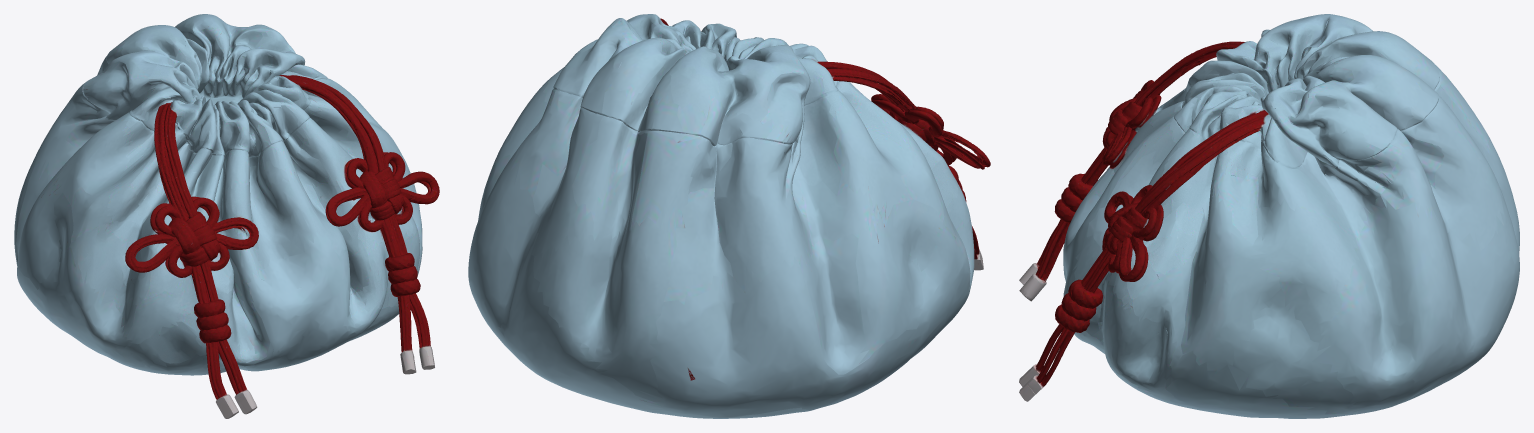
The model's file is cheonghong-closed.glb.
The picture shows the model from 3 angles, left to right: view 1: azimuth 30°, elevation 25°; view 2: azimuth 150°, elevation 25°; view 3: azimuth 270°, elevation 25°; orthographic projection. The views are drawn at different scales.
Parts seen in each view (by area): view 1: body, cord; view 2: body, cord; view 3: body, cord.
Boxes of the visible parts, x1,y1,x2,y2 form: body: [14, 14, 422, 375]; cord: [125, 74, 439, 418]; body: [468, 14, 974, 418]; cord: [660, 18, 990, 270]; body: [1063, 14, 1519, 418]; cord: [1019, 41, 1268, 401].
Size of the model in its own units: 1.74 by 1.3 by 1.9.
1 material, 1 textured.
